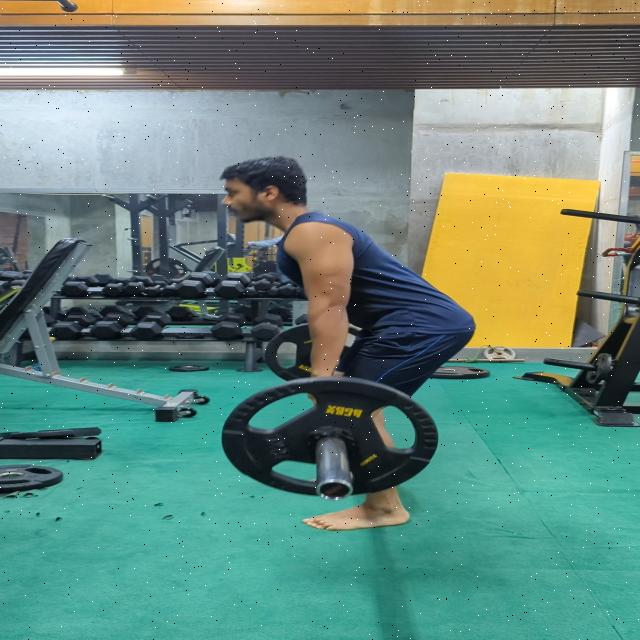Normal_Deadlifts: (222, 149, 477, 530)
